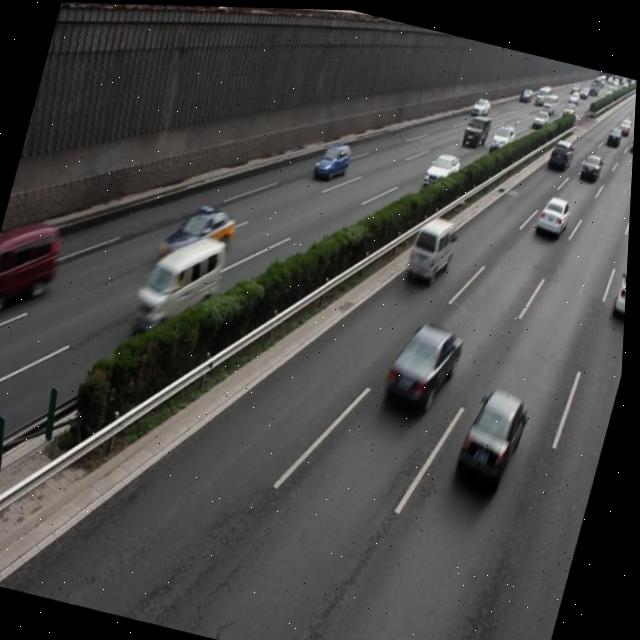car: (455, 378, 536, 491), (381, 311, 467, 416), (158, 194, 241, 277), (405, 210, 461, 284), (312, 134, 353, 182), (535, 189, 574, 236), (423, 144, 462, 189), (612, 259, 630, 317)
truck: (129, 220, 231, 343), (0, 211, 67, 321)
